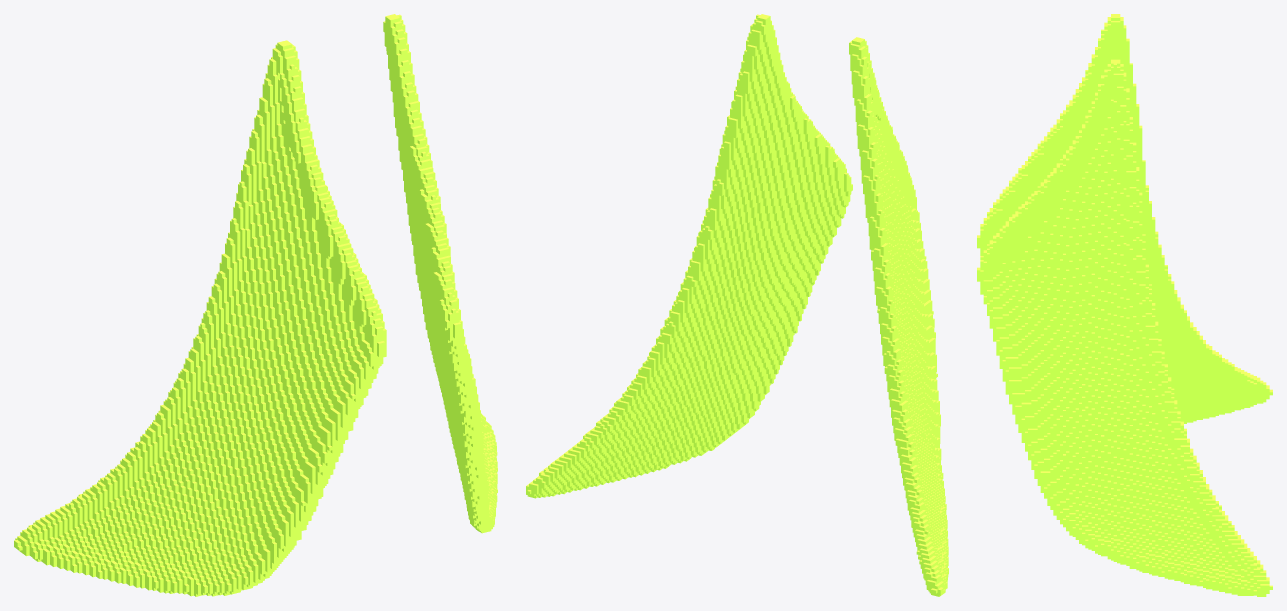
Rendered from lime.gltf.
3 renders of one model, left to right at view 1: azimuth 30°, elevation 25°; view 2: azimuth 150°, elevation 25°; view 3: azimuth 270°, elevation 25°, orthographic. The views are drawn at different scales.
Parts seen in each view (by area): view 1: 翅膀.1; view 2: 翅膀.1; view 3: 翅膀.1.
Boxes of the visible parts, bbox=[...] form: 翅膀.1: bbox=[14, 14, 497, 596]; 翅膀.1: bbox=[526, 14, 948, 596]; 翅膀.1: bbox=[977, 14, 1272, 596].
Bounding box in the file's own units: 17.88 × 19.2 × 11.16.
